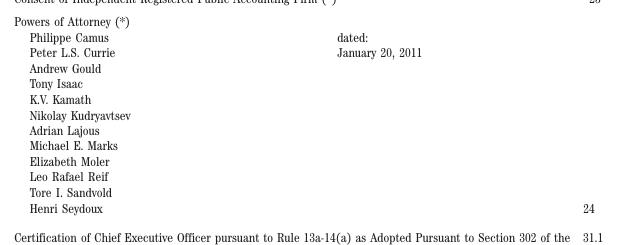table: (28, 28, 593, 214)
table column: (225, 28, 501, 214), (28, 28, 225, 214), (501, 28, 593, 214)
table column header: (28, 28, 593, 59)
table projected row header: (28, 59, 593, 75), (28, 90, 593, 106), (28, 121, 593, 137), (28, 152, 593, 168), (28, 183, 593, 199), (28, 75, 593, 90), (28, 106, 593, 121), (28, 137, 593, 152), (28, 168, 593, 183)
table row: (28, 28, 593, 59), (28, 59, 593, 75), (28, 90, 593, 106), (28, 121, 593, 137), (28, 152, 593, 168), (28, 183, 593, 199), (28, 75, 593, 90), (28, 106, 593, 121), (28, 137, 593, 152), (28, 168, 593, 183), (28, 199, 593, 214)
